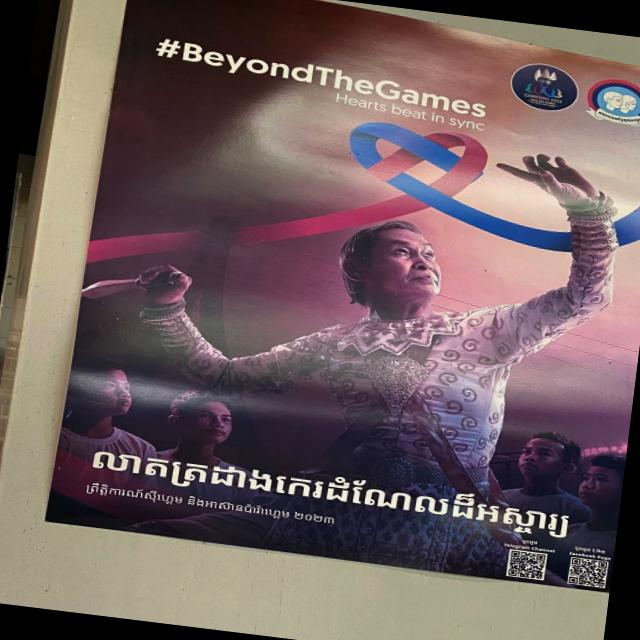2: (78, 477, 344, 532)
Yolov11_80vkh: (85, 438, 575, 545)
